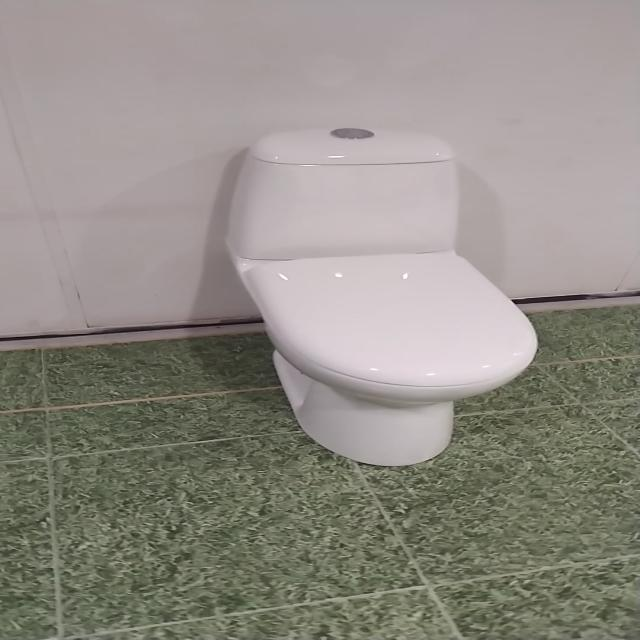toilet: (216, 118, 554, 472)
